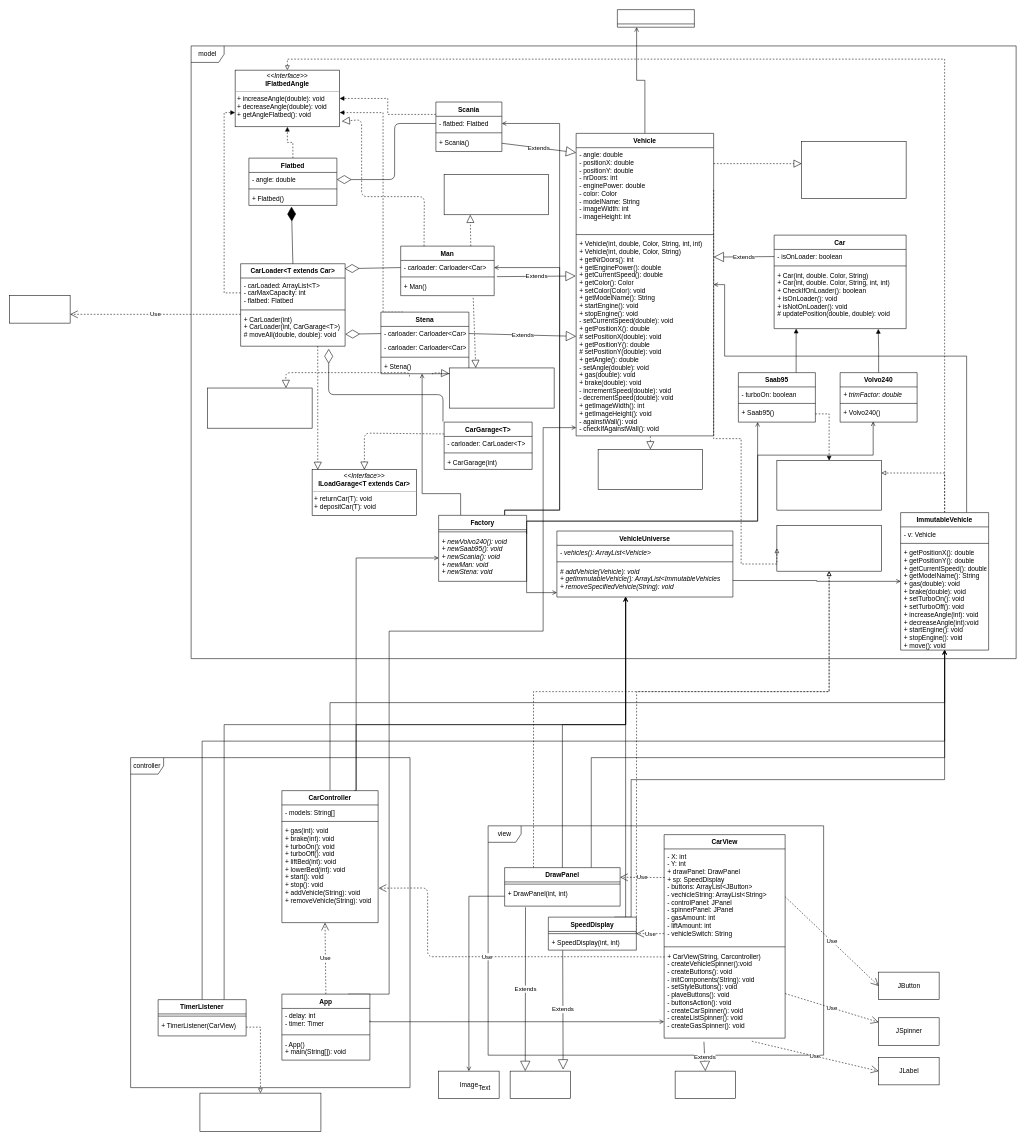
The diagram is 1026 pixels wide and 1141 high, and some of its shapes have lost their labels. Here are the shapes that lost their labels. From the top down, the centre of each, then its label:
At point 655,18: "Color".
At point 853,169: "<<Interface>> Movable + move(): void + turnLeft(): void + turnRight(): void".
At point 496,194: "<<Interface>> ILoadCarTruck + unloadLastCar(): void".
At point 39,309: "ArrayList".
At point 259,407: "<<Interface>> ILoadCarFerry + unloadFirstCar(): Void".
At point 501,387: "<<Interface>> ILoadCar<T extends Car> + loadCar(T): void".
At point 650,469: "<<Interface>> ISpeed + speedFactor(): double".
At point 828,485: "<<Interface>> ITurbo + setTurboOn(): void + setTurboOff(): void".
At point 828,548: "<<Interface>> IVehicleObserver + notifyOberservers(): void".
At point 540,1085: "JPanel".
At point 705,1085: "JFrame".
At point 260,1112: "<<Interface>> ActionListener - actionPerformed(ActionEvent): void".
